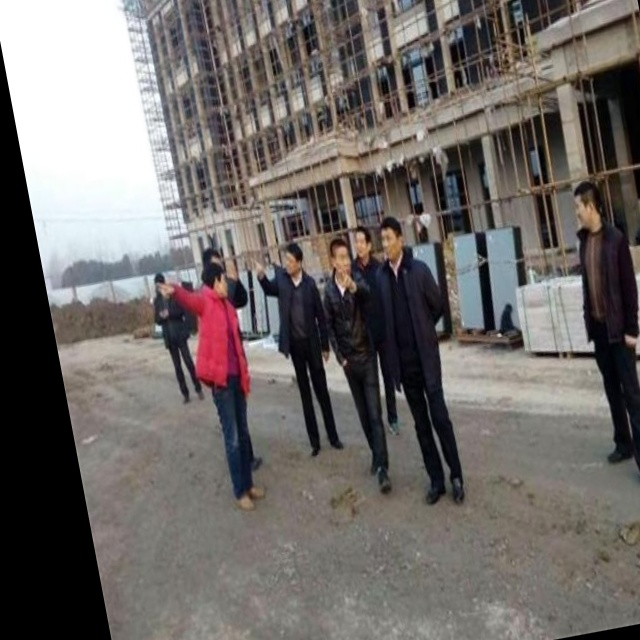Sin_Casco_Mascarrilla: (327, 236, 354, 280), (281, 242, 306, 278)
Sin_Chaleco: (372, 250, 444, 376), (571, 220, 640, 335)
